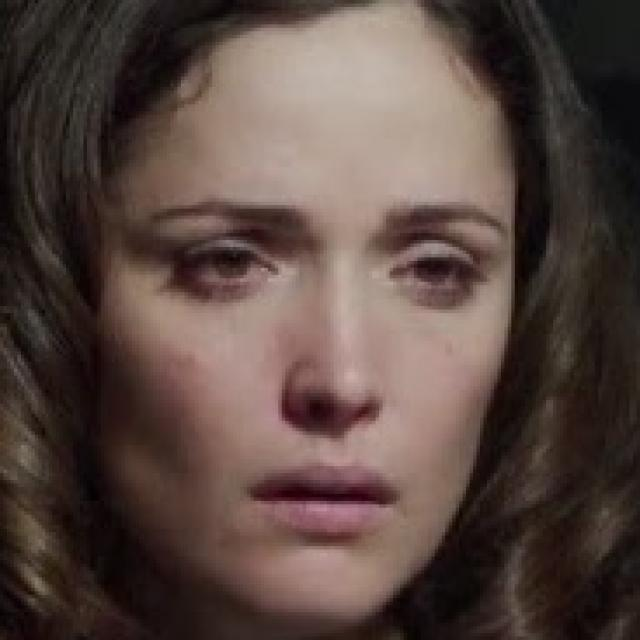Depress: (86, 0, 520, 623)
